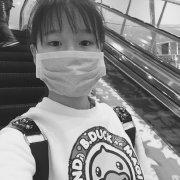OK: (36, 26, 103, 93)
